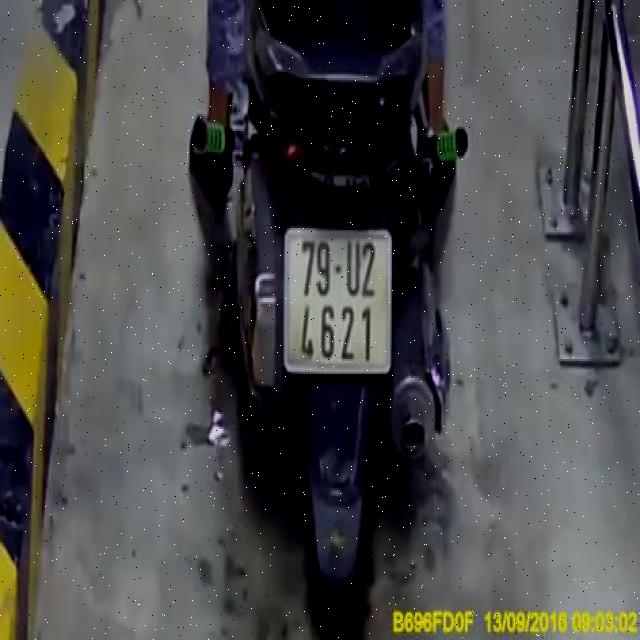1: (360, 304, 373, 362)
2: (340, 304, 358, 362), (362, 240, 376, 300)
4: (299, 302, 316, 362)
6: (319, 302, 336, 360)
7: (301, 240, 316, 296)
9: (316, 238, 332, 296)
U: (345, 239, 361, 298)
